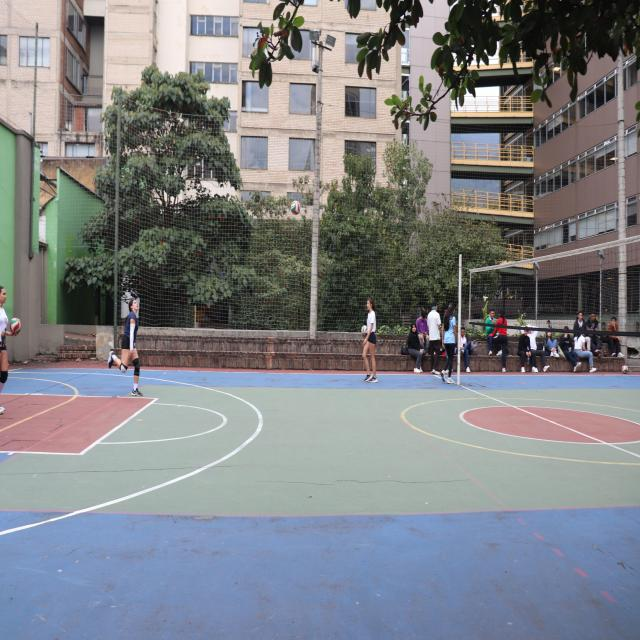volleyball: (10, 317, 22, 334), (290, 200, 300, 216), (362, 325, 368, 336), (622, 366, 628, 374)
